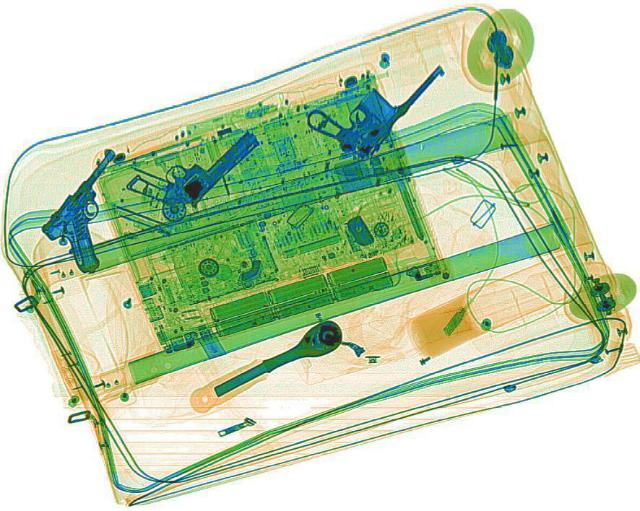Gun: (22, 146, 176, 275), (294, 33, 446, 159), (122, 106, 266, 219)
